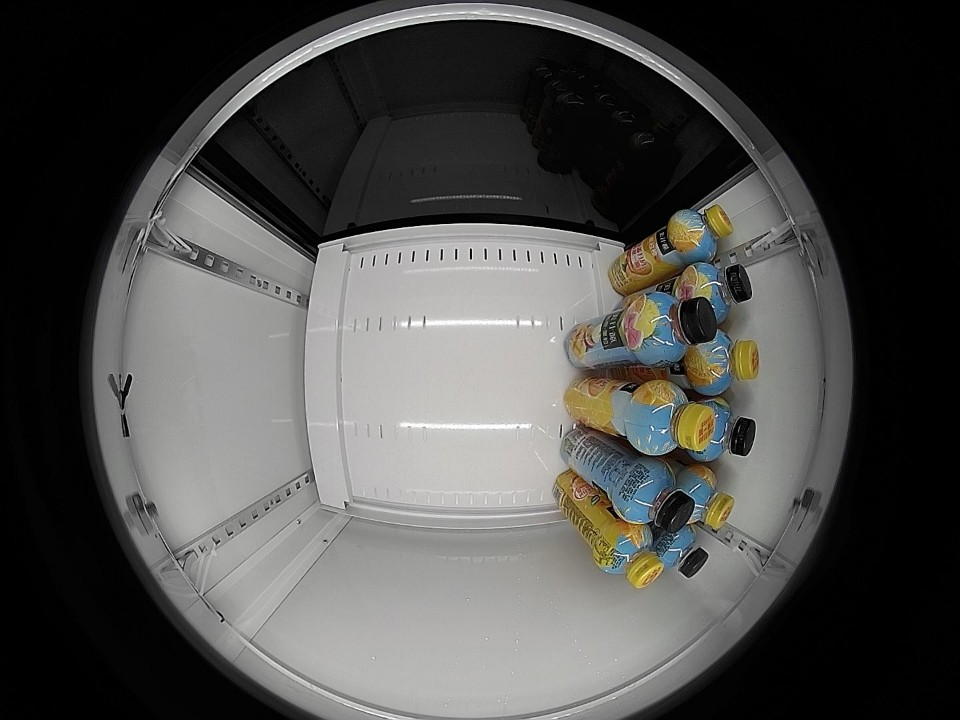guolicheng: (628, 379, 716, 456), (687, 331, 760, 395), (596, 524, 665, 589), (669, 204, 734, 263), (678, 465, 736, 531)
guolicheng2: (631, 292, 718, 366), (616, 459, 696, 534), (689, 395, 755, 461), (681, 261, 752, 322), (655, 524, 709, 577)
